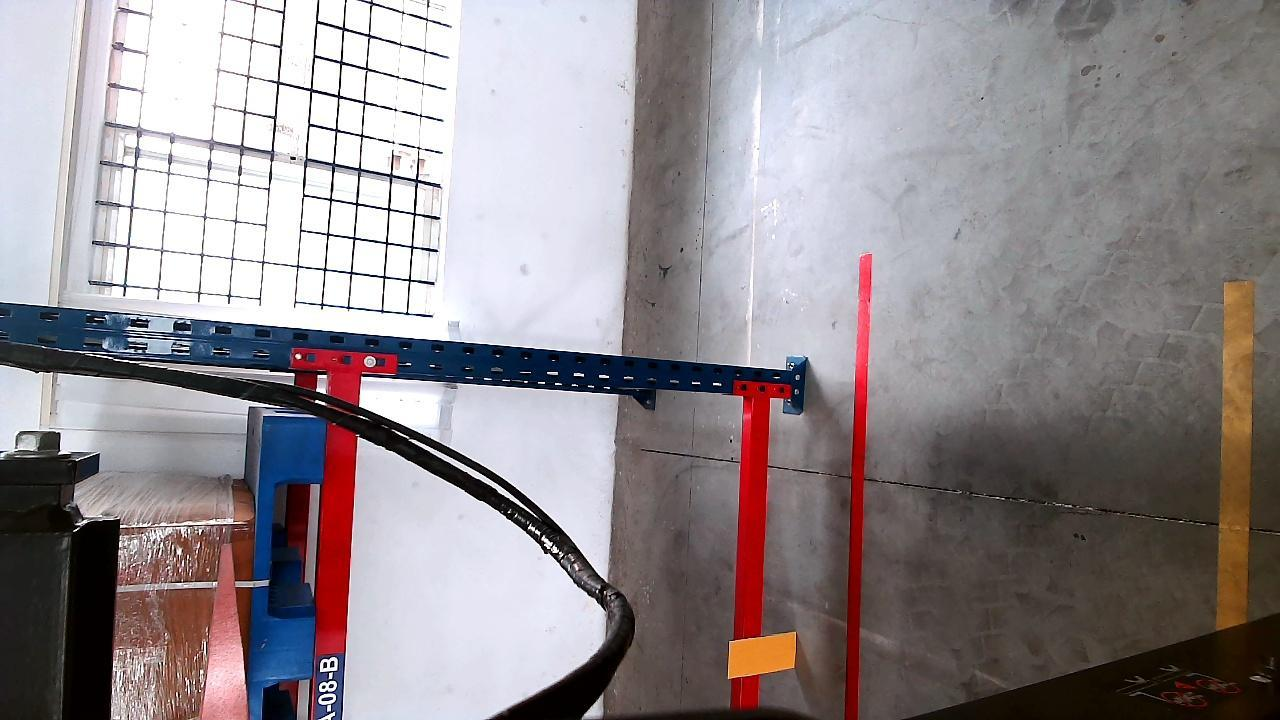red_line: (845, 253, 871, 720)
yellow_line: (1216, 280, 1256, 629)
